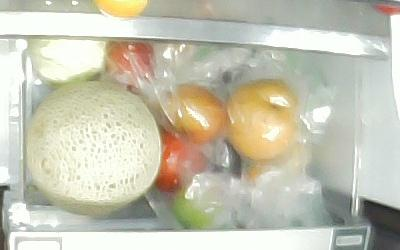cabbage: (26, 36, 110, 81)
melon: (29, 81, 161, 212)
pear: (227, 78, 300, 158)
prune_vinyl: (161, 84, 227, 143)
tomato_vinyl: (155, 138, 208, 194), (107, 40, 155, 85), (173, 187, 219, 229)
